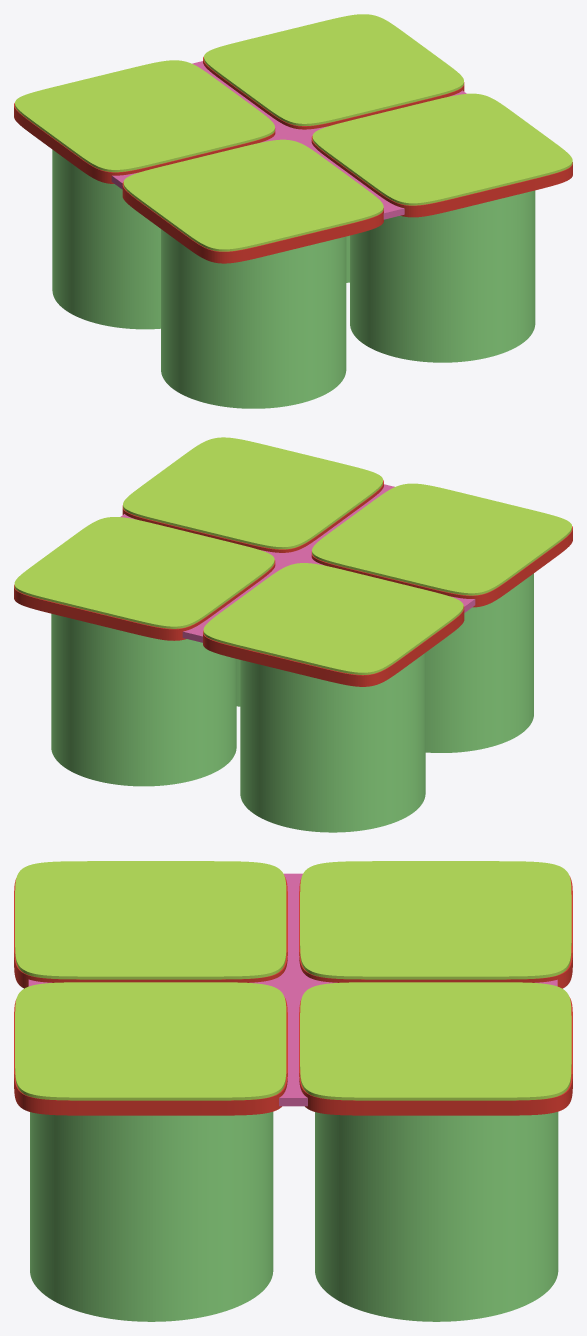
The model's file is Einkaufsladen_Füllmaterial_Joghurt_Variante_1_Base_Überprüft.fbx.
3 views of the same model, one above another, from view 1: azimuth 30°, elevation 25°; view 2: azimuth 150°, elevation 25°; view 3: azimuth 270°, elevation 25° (orthographic). The views are drawn at different scales.
Visible parts, largest first — view 1: Cube.031, Cylinder.020, Cube.030, Cube.032; view 2: Cube.031, Cylinder.020, Cube.030, Cube.032; view 3: Cube.031, Cylinder.020, Cube.030, Cube.032.
Part boxes in pixels (bbox=[...]): Cube.031: bbox=[15, 14, 572, 251]; Cylinder.020: bbox=[52, 149, 535, 408]; Cube.030: bbox=[14, 56, 572, 263]; Cube.032: bbox=[111, 61, 466, 219]; Cube.031: bbox=[14, 437, 571, 674]; Cylinder.020: bbox=[51, 573, 533, 832]; Cube.030: bbox=[14, 480, 572, 686]; Cube.032: bbox=[120, 484, 475, 642]; Cube.031: bbox=[15, 861, 571, 1100]; Cylinder.020: bbox=[30, 1112, 558, 1321]; Cube.030: bbox=[14, 876, 572, 1115]; Cube.032: bbox=[28, 873, 557, 1106].
Size of the model in its own units: 1769 by 802 by 1765.
